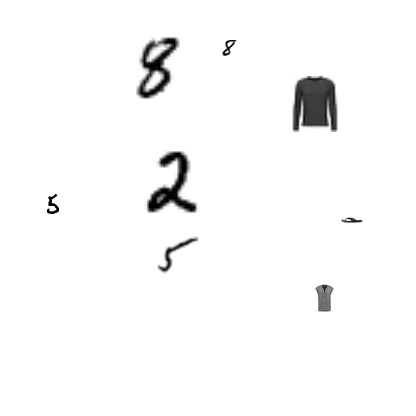2: (130, 143, 214, 227)
5: (146, 225, 202, 281), (38, 191, 66, 219)
8: (113, 23, 197, 107), (217, 36, 239, 58)
Pullover: (287, 76, 343, 132)
Sandal: (341, 209, 363, 231)
Shirt: (310, 284, 338, 312)
